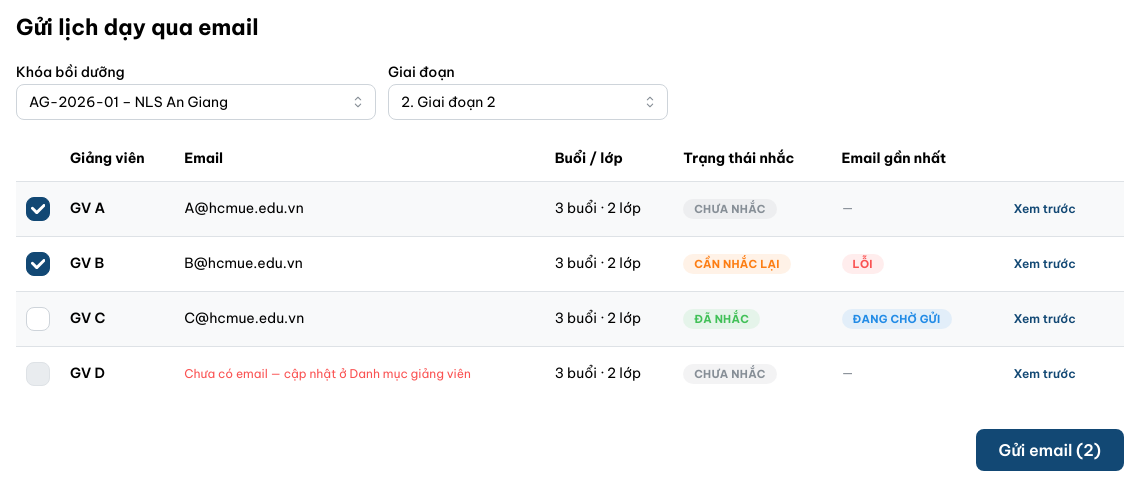
Scenario: Gửi lịch dạy (ADR 0009) › tích thêm / bỏ hết đổi số trên nút; 0 người thì nút tắt
expect the text "GV A" is shown: met, box [70, 199, 105, 217]
Click the checkbox named "Chọn GV C" at (38,319), box [26, 307, 50, 331]
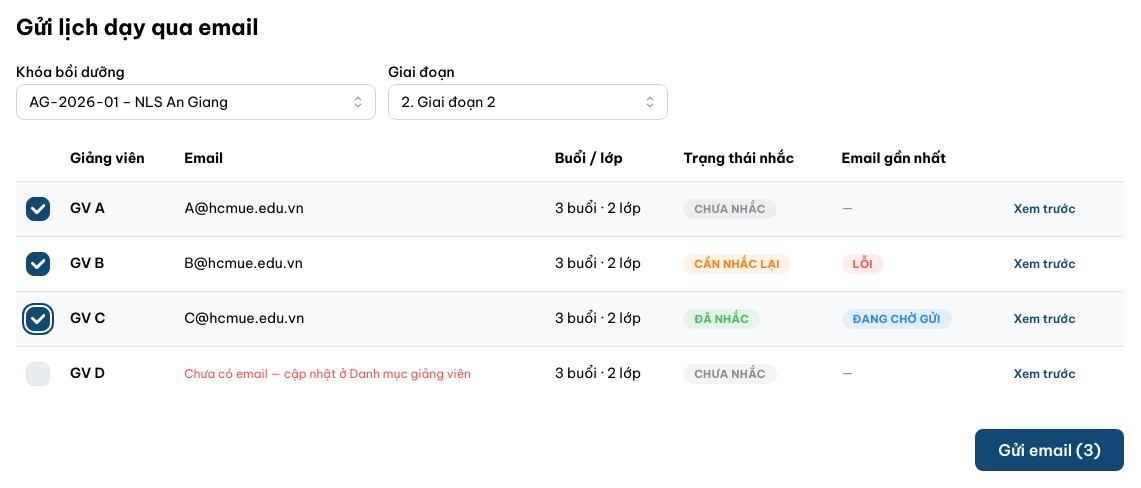
expect the button "Gửi email (3)" is enabled: met, box [975, 429, 1124, 471]
Click the checkbox named "Chọn GV A" at (38,209), box [26, 197, 50, 221]
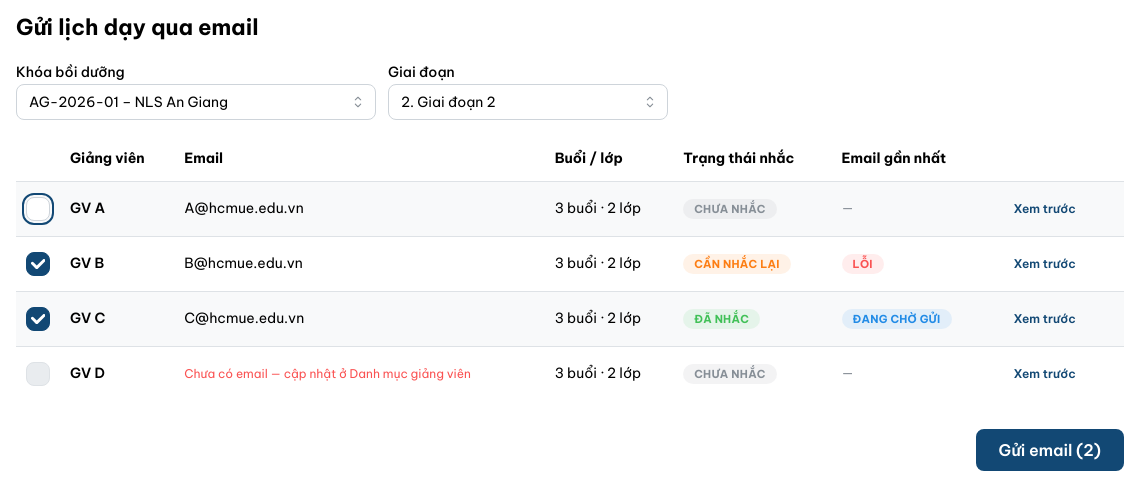
Click the checkbox named "Chọn GV B" at (38,264), box [26, 252, 50, 276]
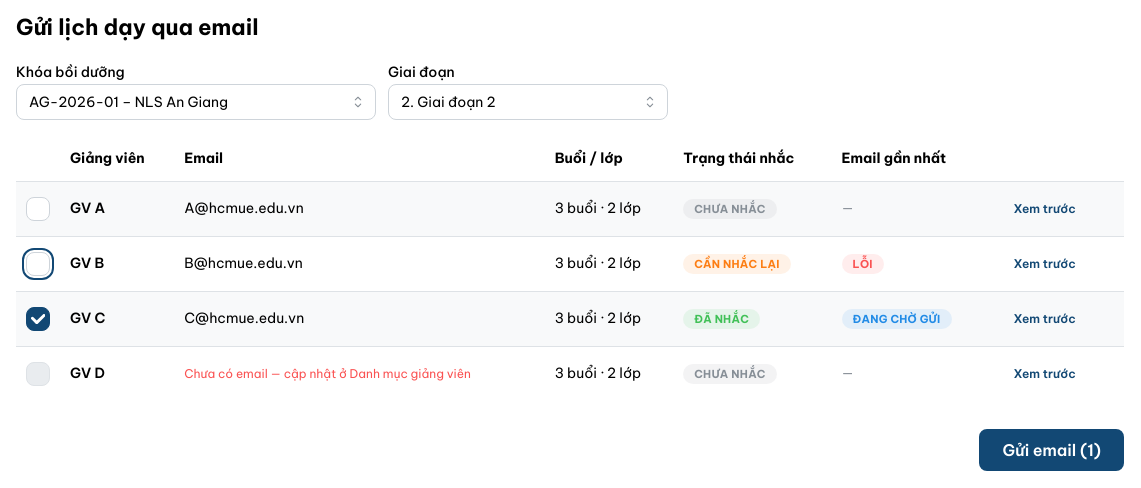
Click the checkbox named "Chọn GV C" at (38,319), box [26, 307, 50, 331]
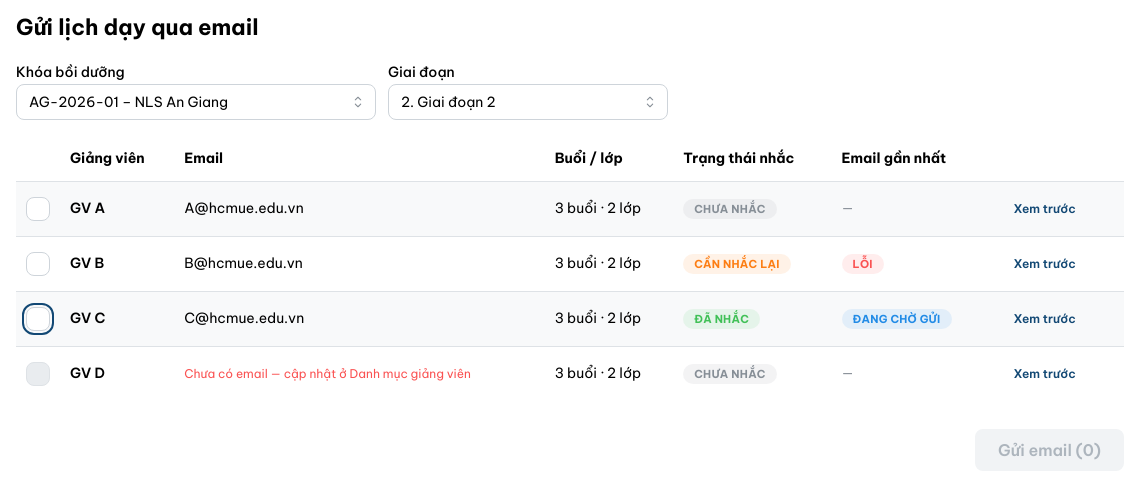
expect the button "Gửi email (0)" is disabled: met, box [975, 429, 1124, 471]
